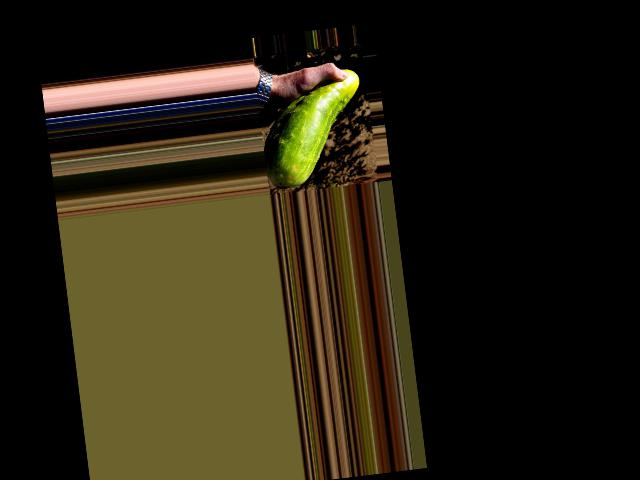cucumber: (254, 67, 370, 191)
